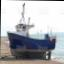fishing boat: (4, 1, 58, 61)
